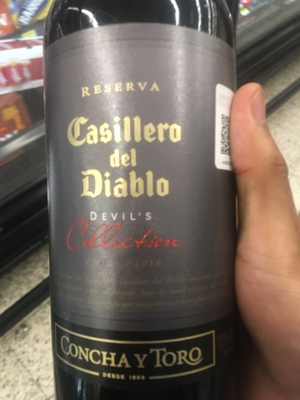casillero del diablo devils collection rojo: (41, 5, 237, 400)
